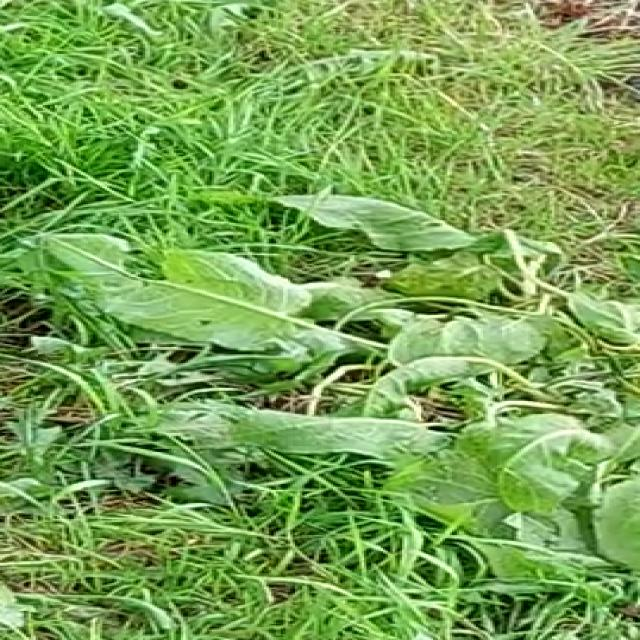organic waste: (69, 170, 640, 616)
